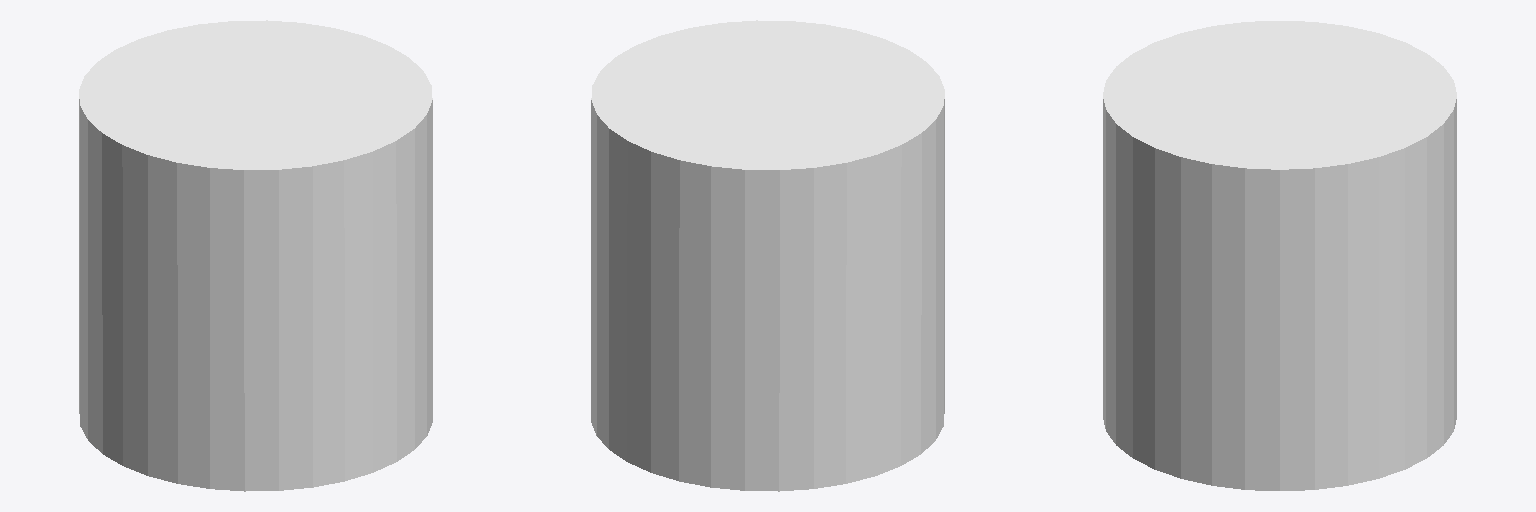
URDF robot description (camera1):
<?xml version="1.0"?>
<robot name="camera1">
    <material name="white">
        <color rgba="1.0 1.0 1.0 1.0"/>
    </material>
    <!-- world link-->
    <link name="world"/>

    <joint name="world_ceiling_joint" type="fixed">
        <parent link="world"/>
        <child link="ceiling_link"/>
        <origin xyz="0 0 5" rpy="0 0 0"/>
    </joint>

    <!-- ceiling link-->
    <link name="ceiling_link"/>

    <!-- 카메라 링크 정의 -->
    <link name="camera1_link">
        <visual>
            <material name="white"/>
            <geometry>
                <cylinder length="0.1" radius="0.05"/>
            </geometry>
            <origin xyz="0 0 0" rpy="0 1.57 0"/>
        </visual>
        <collision>
            <geometry>
                <cylinder length="0.1" radius="0.05"/>
            </geometry>
            <origin xyz="0 0 0" rpy="0 1.57 0"/>
        </collision>
        <inertial>
            <origin xyz="0 0 0" />
            <mass value="0.005" />
            <inertia ixx="0.001" ixy="0.0" ixz="0.0" iyy="0.001" iyz="0.0" izz="0.001" />
        </inertial>
    </link>

    <!-- 천장과 카메라를 연결하는 고정 조인트 정의 -->
    <joint name="ceiling_to_camera" type="fixed">
        <parent link="ceiling_link"/>
        <child link="camera1_link"/>
        <origin xyz="1 0 -0.05" rpy="0 1.57 0"/>
    </joint>

    <!-- Gazebo 플러그인을 사용하여 카메라 센서 추가 -->
    <gazebo reference="camera1_link">
        <sensor name="camera1" type="depth">
            <visualize>true</visualize>
            <update_rate>60.0</update_rate>
            <camera name="RS_D435i">
                <horizontal_fov>1.51844</horizontal_fov>
                <image>
                    <width>640</width>
                    <height>480</height>
                    <format>B8G8R8</format>
                </image>
                <clip>
                    <near>0.05</near>
                    <far>10</far>
                </clip>
            </camera>
            <plugin name="camera1_controller" filename="libgazebo_ros_camera.so">
                <baseline>0.2</baseline>
                <alwaysOn>true</alwaysOn>
                <updateRate>0.0</updateRate>
                <frame_name>camera1_link</frame_name>
                <pointCloudTopicName>camera1/depth/points</pointCloudTopicName>
                <pointCloudCutoff>0.2</pointCloudCutoff>
                <pointCloudCutoffMax>10.0</pointCloudCutoffMax>
                <distortionK1>0.00001</distortionK1>
                <distortionK2>0.00001</distortionK2>
                <distortionK3>0.00001</distortionK3>
                <distortionT1>0.00001</distortionT1>
                <distortionT2>0.00001</distortionT2>
                <CxPrime>0</CxPrime>
                <Cx>0</Cx>
                <Cy>0</Cy>
                <focalLength>0</focalLength>
                <hackBaseline>0</hackBaseline>
            </plugin>
        </sensor>
    </gazebo>
</robot>

--- Facts derived from the render (not from the file) ---
Views: 3 orthographic renders of the robot side by side, from view 1: azimuth 30°, elevation 25°; view 2: azimuth 150°, elevation 25°; view 3: azimuth 270°, elevation 25°.
Robot: camera1 — 3 links, 2 joints (2 fixed); root link world; default pose: every joint at zero.
Links seen in each view (by area): view 1: camera1_link; view 2: camera1_link; view 3: camera1_link.
Boxes of the visible links, x1,y1,x2,y2 form: camera1_link: [79, 20, 432, 491]; camera1_link: [591, 20, 944, 491]; camera1_link: [1103, 21, 1456, 490].
Size in the robot's own frame: 0.1002 by 0.1 by 0.1002 metres.
Geometry: primitives only (box / cylinder / sphere), no mesh files.
